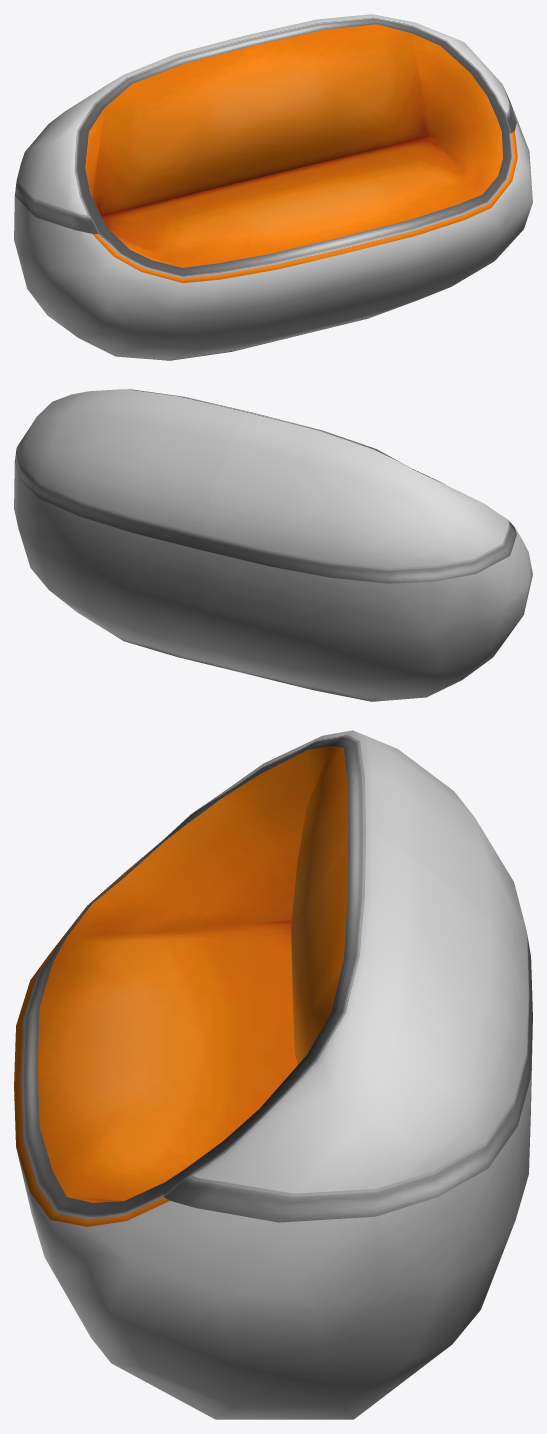
File: rmk_fut_chairL.dae
3 views of the same model, one above another, from view 1: azimuth 30°, elevation 25°; view 2: azimuth 150°, elevation 25°; view 3: azimuth 270°, elevation 25° (orthographic). The views are drawn at different scales.
Parts seen in each view (by area): view 1: rmk_fut_chairL; view 2: rmk_fut_chairL; view 3: rmk_fut_chairL.
Boxes of the visible parts, x1,y1,x2,y2 form: rmk_fut_chairL: (14, 14, 532, 360); rmk_fut_chairL: (14, 389, 532, 701); rmk_fut_chairL: (14, 730, 532, 1419).
Size of the model in its own units: 60.55 by 31.04 by 31.65.
1 material, 1 textured.
